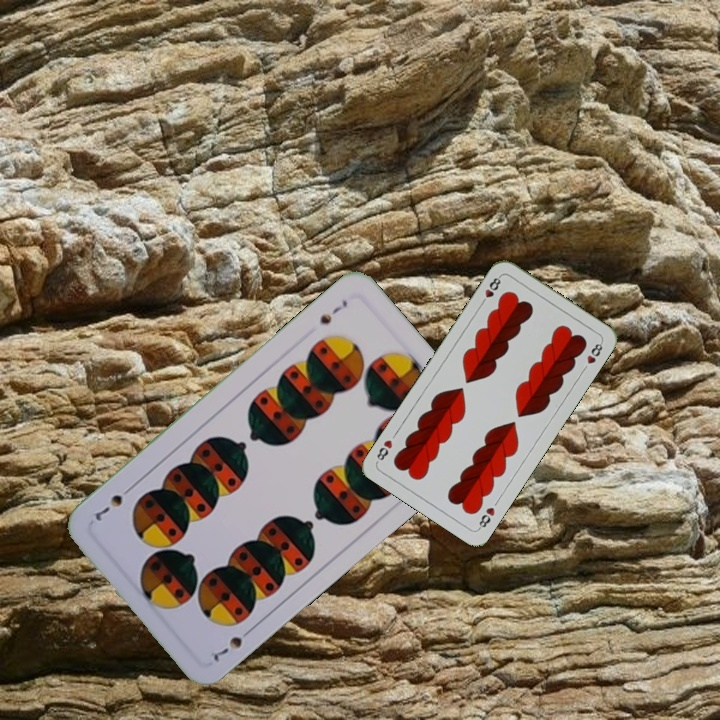H8: (477, 272, 504, 308), (474, 503, 498, 532)
S7: (209, 623, 256, 664), (315, 296, 350, 327)
